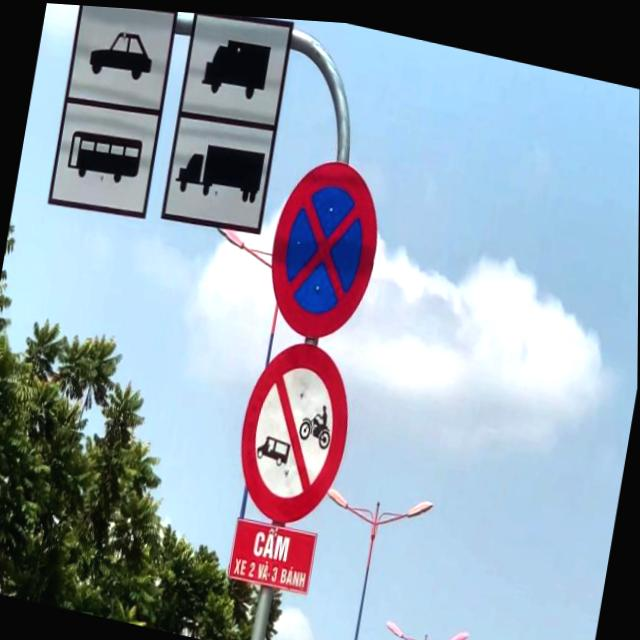Cam dung xe va do xe: (257, 140, 394, 352)
